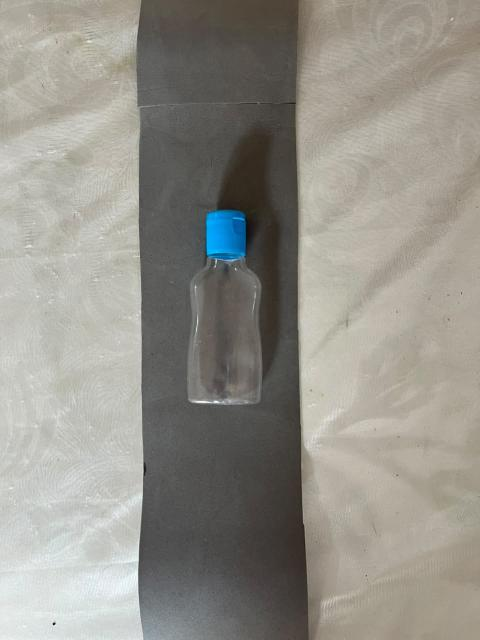PET: (126, 148, 346, 508)
